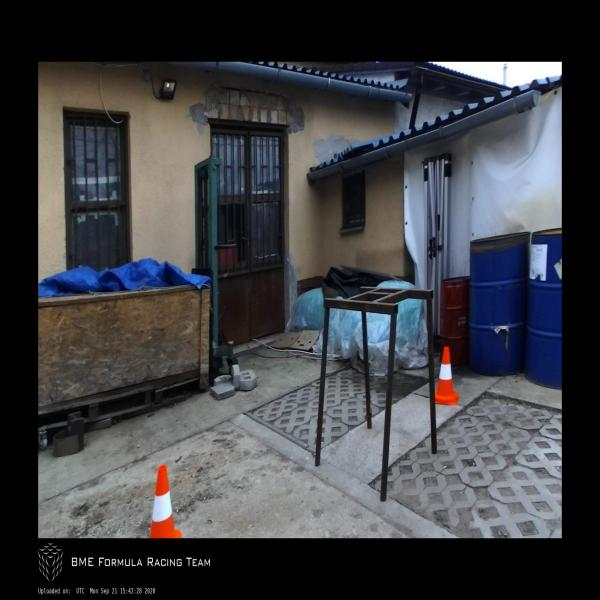orange_cone: (149, 465, 182, 538), (435, 347, 459, 405)
